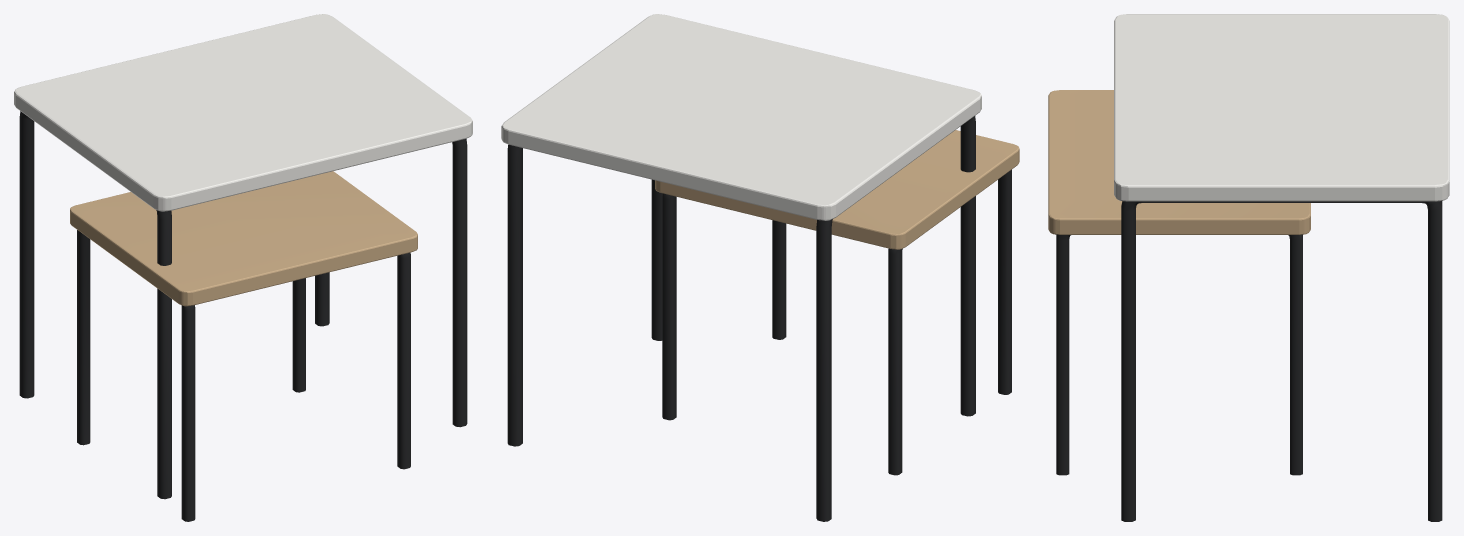
The model's file is nestingTables.glb.
3 renders of one model, left to right at view 1: azimuth 30°, elevation 25°; view 2: azimuth 150°, elevation 25°; view 3: azimuth 270°, elevation 25°, orthographic. The views are drawn at different scales.
Visible parts, largest first — view 1: table, small_table; view 2: table, small_table; view 3: table, small_table.
Part boxes in pixels (left/top/right/bottom): table: left=14, top=14, right=472, bottom=499; small_table: left=70, top=171, right=417, bottom=521; table: left=501, top=14, right=981, bottom=521; small_table: left=655, top=130, right=1019, bottom=475; table: left=1114, top=14, right=1449, bottom=521; small_table: left=1048, top=90, right=1310, bottom=475.
Size of the model in its own units: 0.57 by 0.5125 by 0.55.
